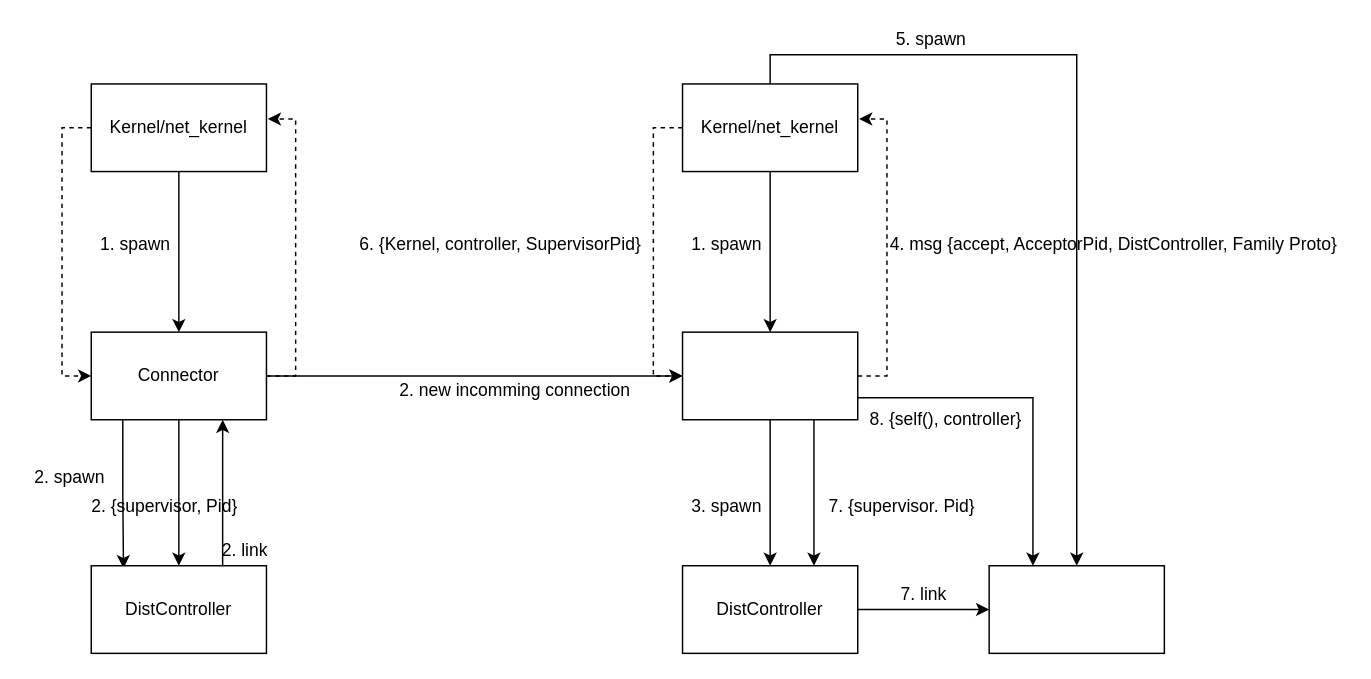
Image size: 1371x679. Some labels were removed from this diagram. Here are the shapes that lost their labels. From the top down, the box of each, then its label:
(681, 331, 858, 420): acceptor
(988, 564, 1164, 653): Supervisor
